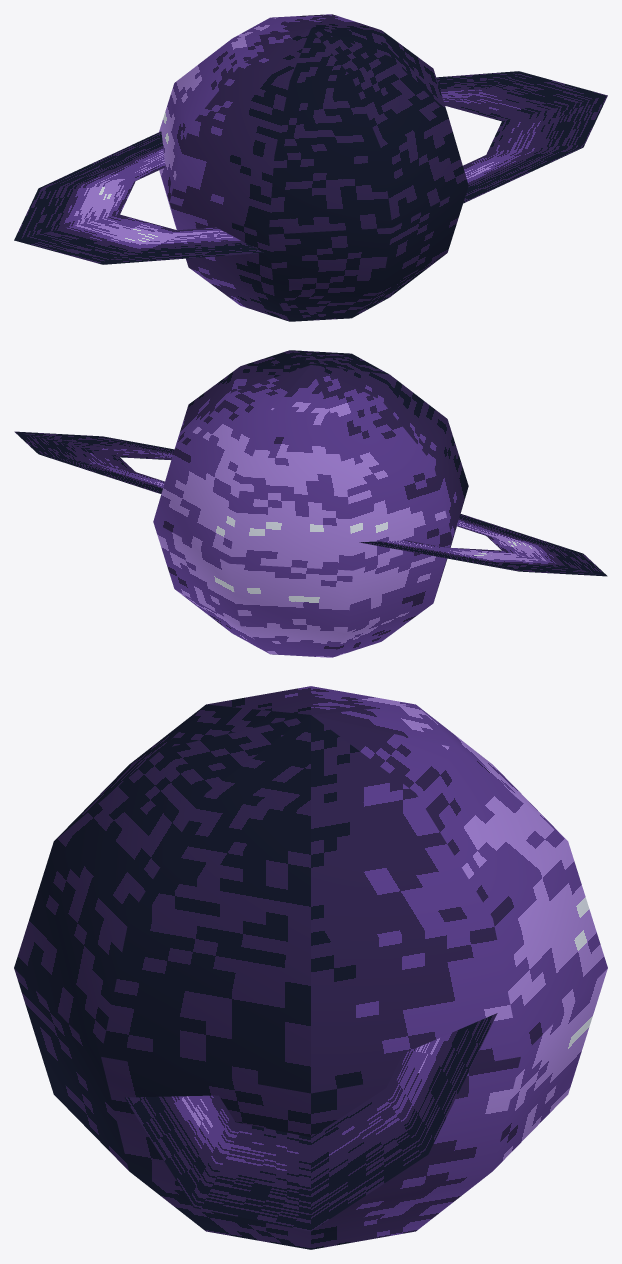
Rendered from skyx.planet__ringed.glb.
3 views of the same model, one above another, from view 1: azimuth 30°, elevation 25°; view 2: azimuth 150°, elevation 25°; view 3: azimuth 270°, elevation 25° (orthographic). The views are drawn at different scales.
Parts seen in each view (by area): view 1: kit_shell_planet, kit_shell_ring; view 2: kit_shell_planet, kit_shell_ring; view 3: kit_shell_planet, kit_shell_ring.
Boxes of the visible parts, left/top/right/bottom form: kit_shell_planet: left=159, top=14, right=468, bottom=321; kit_shell_ring: left=14, top=71, right=607, bottom=264; kit_shell_planet: left=153, top=350, right=468, bottom=657; kit_shell_ring: left=14, top=431, right=607, bottom=576; kit_shell_planet: left=14, top=686, right=607, bottom=1249; kit_shell_ring: left=125, top=1013, right=497, bottom=1231.
Size of the model in its own units: 294 by 132 by 140.
1 material, 1 textured.
